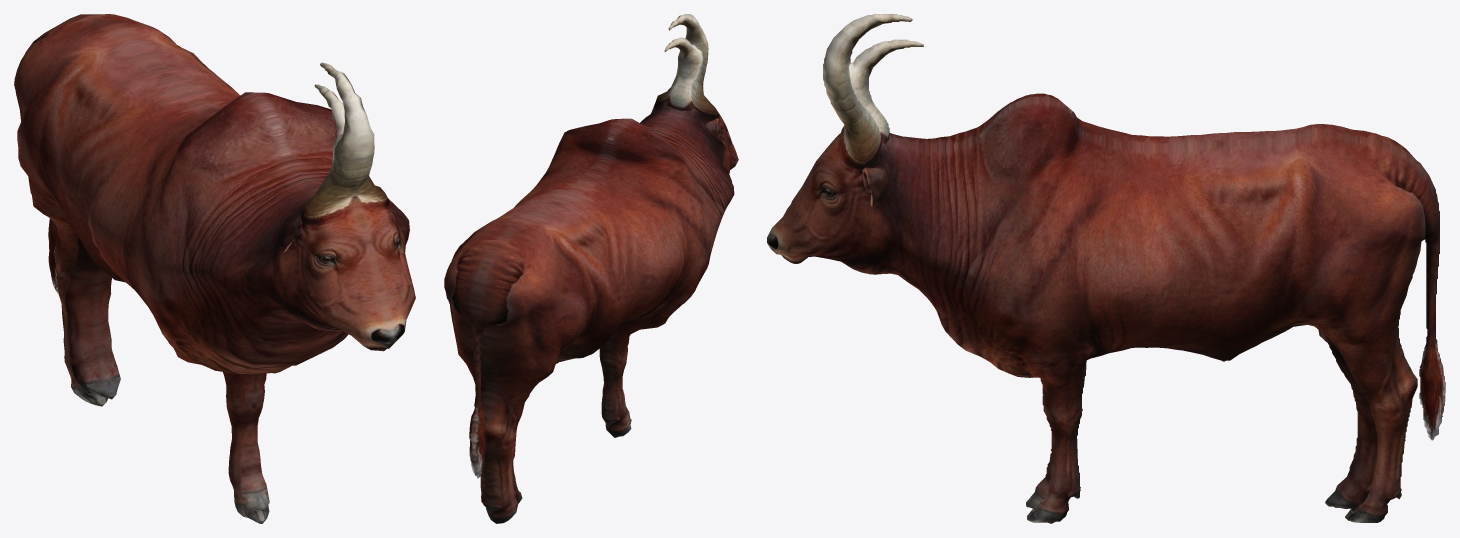
The model's file is zebu.glb.
The picture shows the model from 3 angles, left to right: view 1: azimuth 30°, elevation 25°; view 2: azimuth 150°, elevation 25°; view 3: azimuth 270°, elevation 25°; orthographic projection. The views are drawn at different scales.
Visible parts, largest first — view 1: zebu; view 2: zebu; view 3: zebu.
Boxes of the visible parts, left/top/right/bottom form: zebu: left=14, top=14, right=415, bottom=523; zebu: left=444, top=14, right=738, bottom=523; zebu: left=767, top=14, right=1445, bottom=523.
Size of the model in its own units: 0.6551 by 1.45 by 1.75.
Materials: 1 (1 with a texture image).
